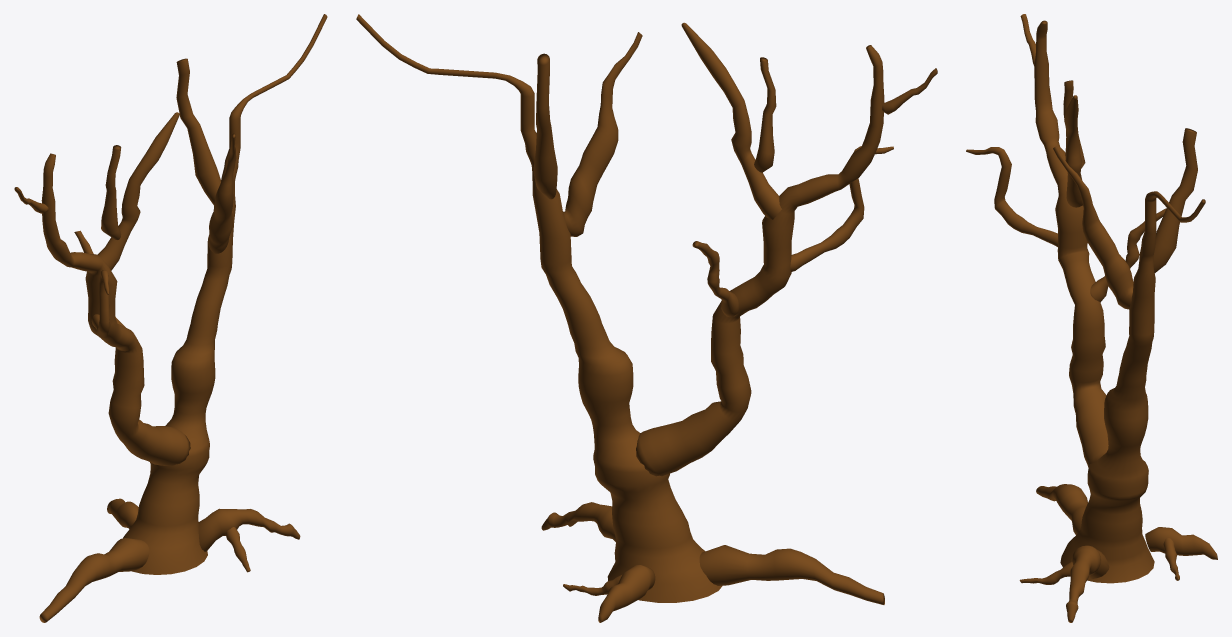
The model's file is Trunk.fbx.
The picture shows the model from 3 angles, left to right: view 1: azimuth 30°, elevation 25°; view 2: azimuth 150°, elevation 25°; view 3: azimuth 270°, elevation 25°; orthographic projection. The views are drawn at different scales.
Visible parts, largest first — view 1: pCylinder1, pCylinder2, pCylinder15, pCylinder11, pCylinder13, pCylinder16, pCylinder3, pCylinder12, pCylinder5, pCylinder17, pCylinder18; view 2: pCylinder1, pCylinder2, pCylinder15, pCylinder3, pCylinder11, pCylinder13, pCylinder5, pCylinder17, pCylinder12, pCylinder16, pCylinder4; view 3: pCylinder1, pCylinder2, pCylinder3, pCylinder13, pCylinder5, pCylinder16, pCylinder11, pCylinder17, pCylinder15, pCylinder4, pCylinder18, pCylinder19 (+1 smaller).
Part boxes in pixels (<box>): pCylinder1: <box>123,14,327,574</box>; pCylinder2: <box>41,153,190,465</box>; pCylinder15: <box>39,538,149,622</box>; pCylinder11: <box>97,112,179,270</box>; pCylinder13: <box>176,58,220,205</box>; pCylinder16: <box>198,508,300,551</box>; pCylinder3: <box>208,133,236,253</box>; pCylinder12: <box>101,145,121,239</box>; pCylinder5: <box>91,270,110,338</box>; pCylinder17: <box>107,498,138,528</box>; pCylinder18: <box>225,527,250,572</box>; pCylinder1: <box>356,14,722,602</box>; pCylinder2: <box>636,45,884,476</box>; pCylinder15: <box>699,545,884,604</box>; pCylinder3: <box>563,32,642,236</box>; pCylinder11: <box>681,22,781,219</box>; pCylinder13: <box>533,53,557,199</box>; pCylinder5: <box>790,146,893,271</box>; pCylinder17: <box>598,565,655,622</box>; pCylinder12: <box>754,57,776,172</box>; pCylinder16: <box>541,502,615,541</box>; pCylinder4: <box>692,241,738,317</box>; pCylinder1: <box>1060,191,1205,583</box>; pCylinder2: <box>1034,20,1108,467</box>; pCylinder3: <box>1053,146,1133,309</box>; pCylinder13: <box>1153,128,1197,273</box>; pCylinder5: <box>966,147,1057,246</box>; pCylinder16: <box>1066,545,1109,622</box>; pCylinder11: <box>1064,95,1082,207</box>; pCylinder17: <box>1145,527,1217,559</box>; pCylinder15: <box>1036,484,1087,534</box>; pCylinder4: <box>1090,208,1165,302</box>; pCylinder18: <box>1019,561,1073,584</box>; pCylinder19: <box>1163,538,1179,580</box>.
Size of the model in its own units: 3.72 by 4.15 by 1.98.
